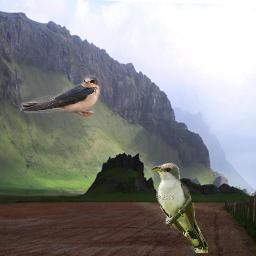Cuckoo: (151, 162, 208, 253)
Swallow: (20, 74, 101, 118)
